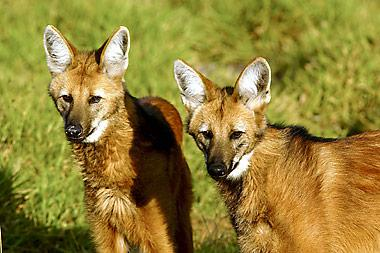LoboGuara: (166, 54, 374, 250), (36, 21, 189, 247)
